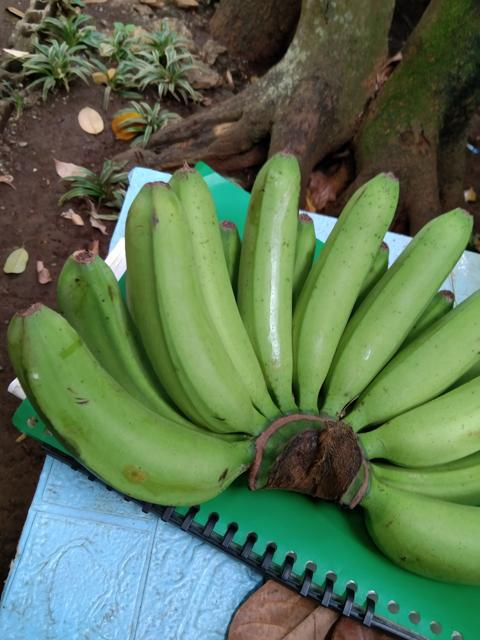freshunripe: (118, 175, 256, 428), (326, 201, 473, 404), (291, 160, 397, 406), (242, 145, 309, 397), (358, 488, 479, 587), (355, 379, 479, 469)
unripe: (0, 301, 246, 514), (47, 242, 144, 388)
